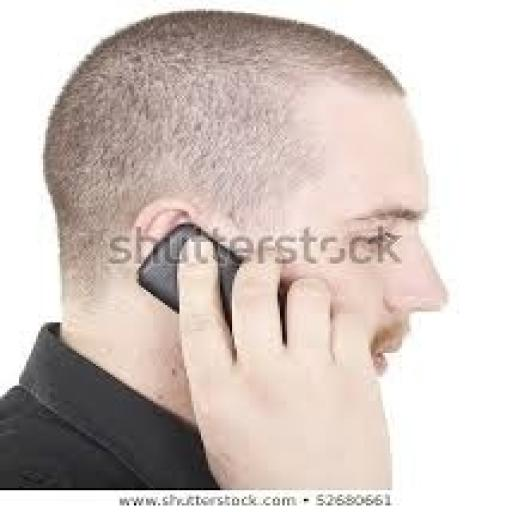calling: (0, 7, 450, 490)
